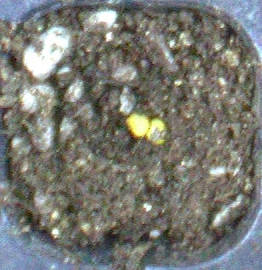pepper seed: (63, 46, 229, 191), (51, 44, 201, 183)
